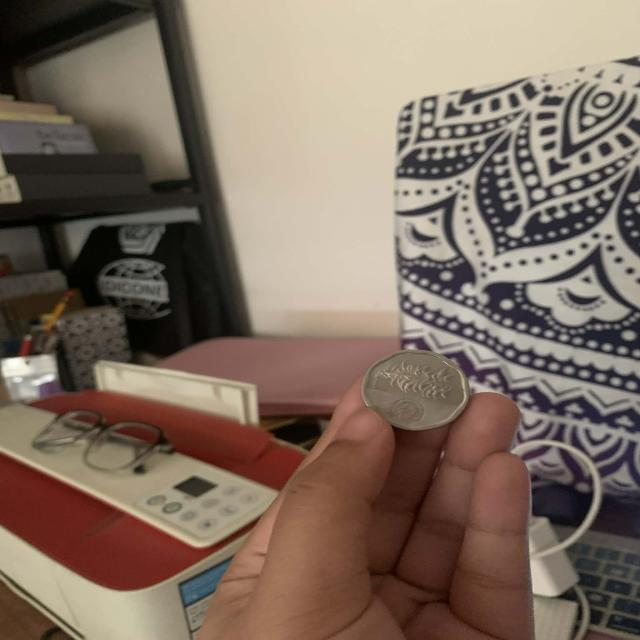5 peso: (357, 344, 471, 435)
